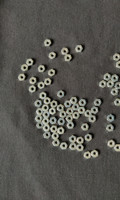nut: (108, 140, 116, 148), (84, 152, 92, 160), (70, 143, 78, 151), (77, 137, 85, 145), (85, 134, 93, 142), (89, 115, 97, 123), (79, 99, 87, 107), (57, 104, 65, 112), (44, 78, 52, 86), (21, 64, 29, 72), (44, 39, 52, 47), (76, 45, 84, 53), (92, 150, 99, 158), (60, 143, 68, 150), (53, 140, 61, 147), (107, 125, 115, 132), (82, 124, 90, 131), (108, 115, 115, 123), (52, 133, 60, 140), (58, 127, 65, 135), (43, 125, 51, 132), (67, 122, 75, 129), (42, 118, 50, 125), (50, 117, 57, 125), (35, 115, 43, 122), (85, 110, 92, 118), (92, 107, 99, 115), (94, 99, 102, 106), (66, 115, 74, 122), (73, 112, 80, 120), (78, 107, 86, 114), (60, 111, 67, 119), (72, 104, 80, 111), (49, 108, 57, 115), (42, 105, 50, 112), (70, 97, 78, 104), (35, 100, 42, 108), (40, 92, 47, 100), (111, 89, 119, 96), (107, 81, 115, 88), (113, 53, 120, 61), (38, 82, 45, 90), (30, 77, 37, 85), (18, 74, 26, 81), (49, 69, 56, 77), (38, 66, 46, 73), (26, 59, 34, 66), (49, 52, 56, 60), (77, 145, 84, 152), (70, 136, 77, 143), (44, 132, 51, 139), (51, 126, 58, 133), (37, 122, 44, 129), (67, 108, 74, 115), (43, 112, 50, 119), (51, 101, 58, 108), (65, 101, 72, 108), (58, 91, 65, 98), (44, 98, 51, 105), (100, 81, 107, 88), (112, 75, 119, 82), (29, 86, 36, 93), (65, 55, 72, 62), (62, 48, 69, 55), (58, 119, 66, 125), (36, 109, 44, 115), (115, 145, 120, 152), (115, 99, 120, 106), (115, 83, 120, 90), (117, 61, 120, 69)
